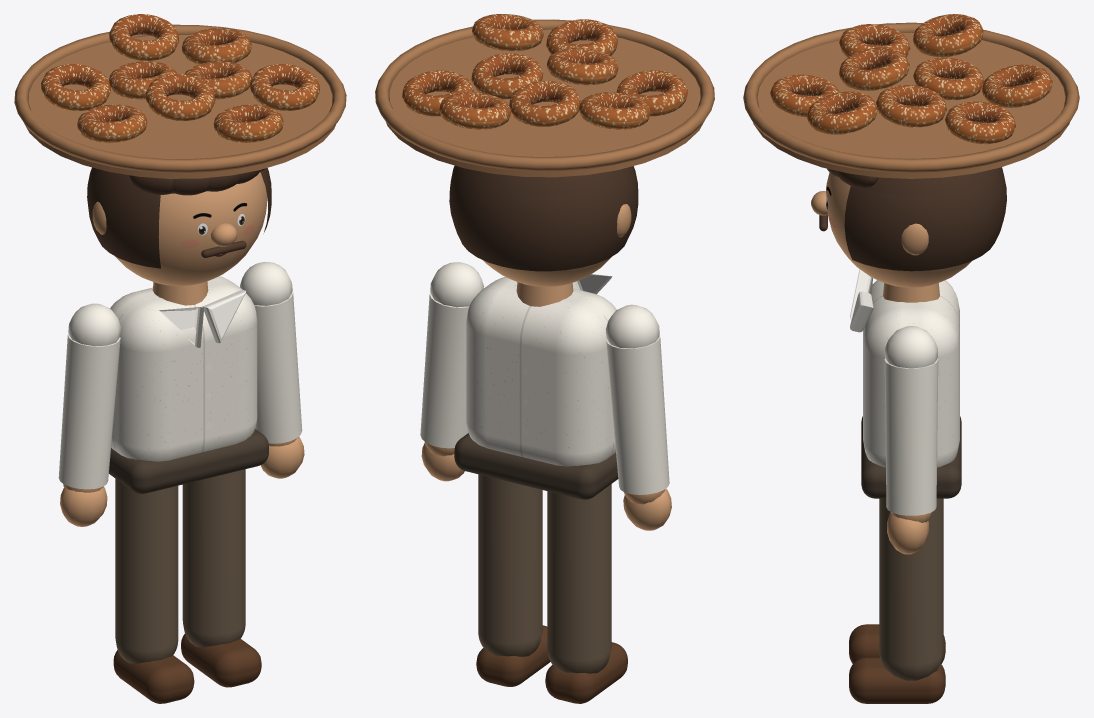
File: kisi-simitci.glb
3 renders of one model, left to right at view 1: azimuth 30°, elevation 25°; view 2: azimuth 150°, elevation 25°; view 3: azimuth 270°, elevation 25°, orthographic. The views are drawn at different scales.
Parts seen in each view (by area): view 1: bas, govde, bacakL, bacakR, kolL, kolR; view 2: bas, govde, bacakL, bacakR, kolL, kolR; view 3: bas, govde, bacakR, kolR, bacakL.
Boxes of the visible parts, x1,y1,x2,y2 form: bas: (14, 14, 346, 285); govde: (109, 276, 268, 493); bacakL: (113, 478, 194, 703); bacakR: (181, 469, 261, 687); kolL: (58, 303, 120, 526); kolR: (240, 261, 304, 478); bas: (375, 14, 714, 286); govde: (454, 274, 618, 499); bacakL: (545, 484, 627, 703); bacakR: (476, 474, 550, 686); kolL: (605, 304, 671, 530); kolR: (420, 262, 484, 481); bas: (743, 14, 1079, 287); govde: (850, 269, 961, 498); bacakR: (849, 498, 945, 703); kolR: (884, 326, 938, 554); bacakL: (849, 624, 945, 663).
Bounding box in the file's own units: 0.94 × 1.9 × 0.94.
Materials: 13 (3 with a texture image).
